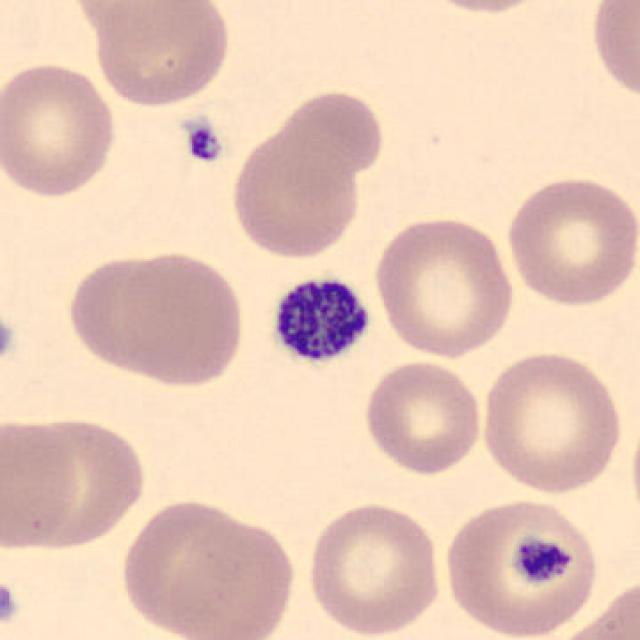Platelets: (261, 264, 377, 374), (507, 534, 581, 587), (181, 116, 226, 166), (0, 580, 21, 631), (0, 316, 18, 370)
RBC: (60, 246, 249, 390), (439, 495, 601, 640), (474, 348, 628, 496), (119, 496, 277, 638), (370, 212, 517, 362), (298, 499, 442, 640), (226, 122, 364, 261), (503, 171, 638, 310), (14, 422, 156, 552), (0, 58, 121, 199), (89, 0, 235, 109), (359, 356, 485, 478), (0, 414, 84, 554), (272, 85, 388, 185), (546, 571, 640, 640), (65, 0, 204, 42), (587, 0, 638, 104), (412, 0, 558, 16), (546, 615, 636, 640), (627, 391, 640, 549)
